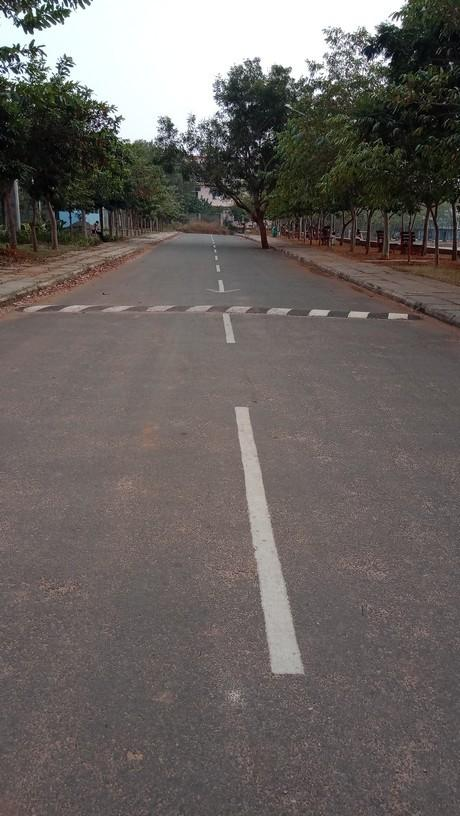speed-bump: (18, 302, 422, 324)
